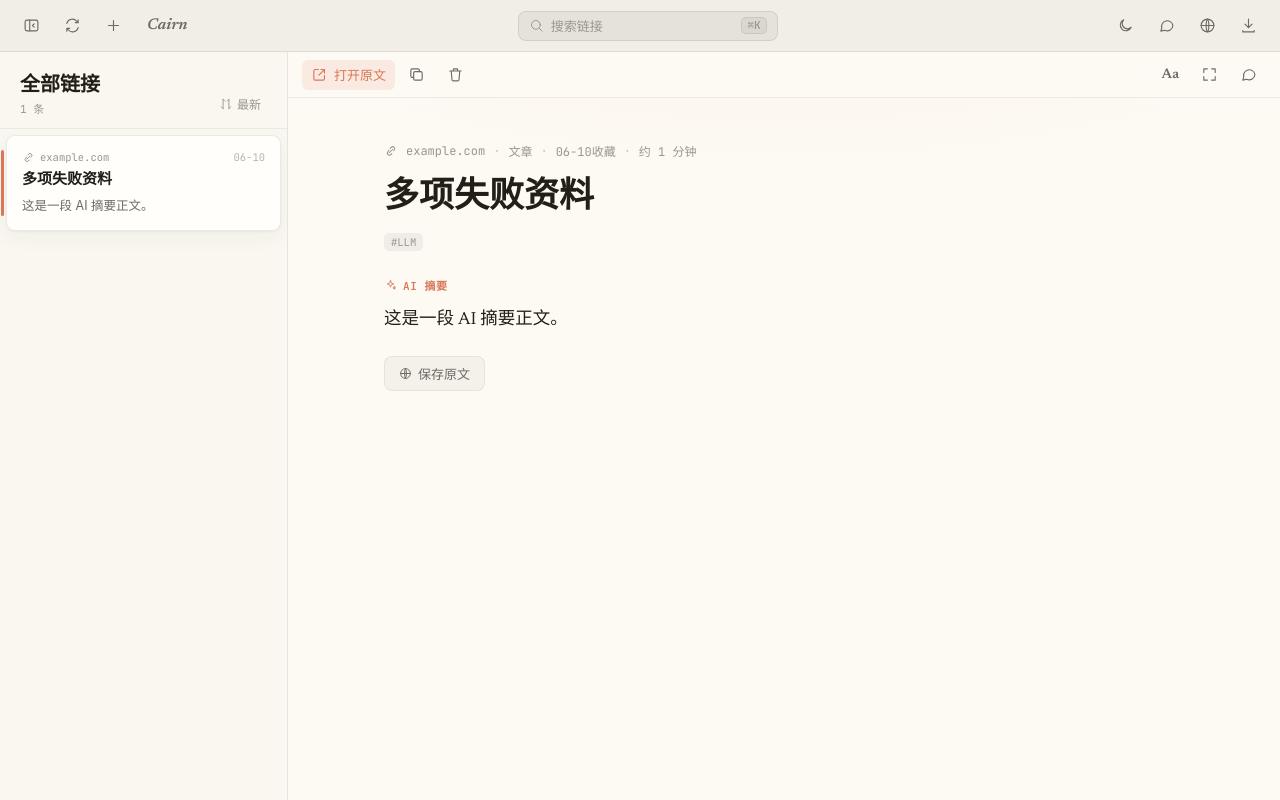
Test case: MainView library synchronization › reports multiple failures once in stable resource order
Expected: the text "多项失败资料" is shown, [22, 173, 112, 188]
Click the button titled "同步".
click(72, 26)  # box [55, 10, 90, 40]
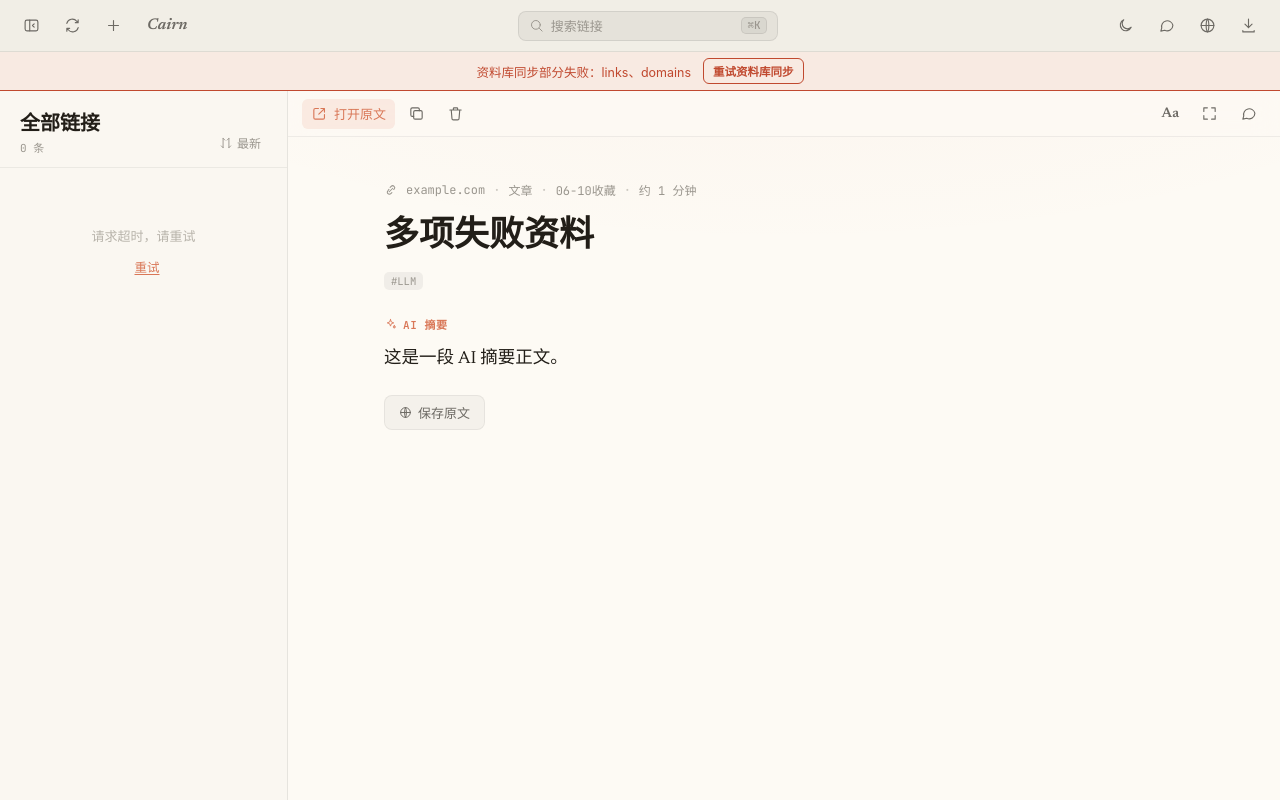
Now the text "资料库同步部分失败：links、domains" is shown, box [476, 62, 691, 80]
Now the number of buttons "重试资料库同步" is 1, box [703, 58, 804, 84]
